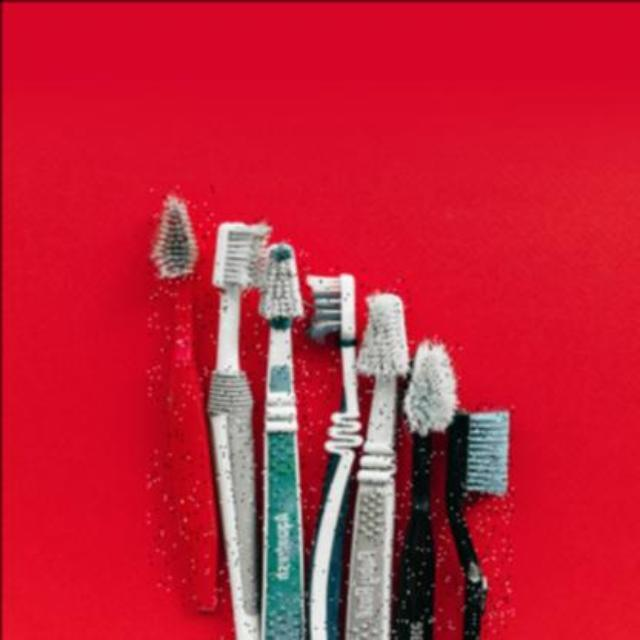toothbrush: (147, 184, 217, 606), (343, 278, 409, 640), (218, 214, 272, 640), (251, 236, 307, 640), (305, 266, 363, 640), (394, 330, 460, 640), (438, 402, 512, 640)
